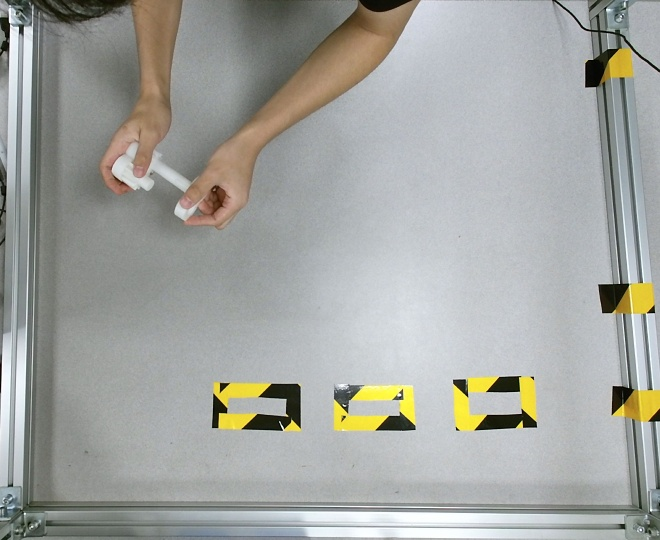stage_3: (111, 142, 192, 193)
